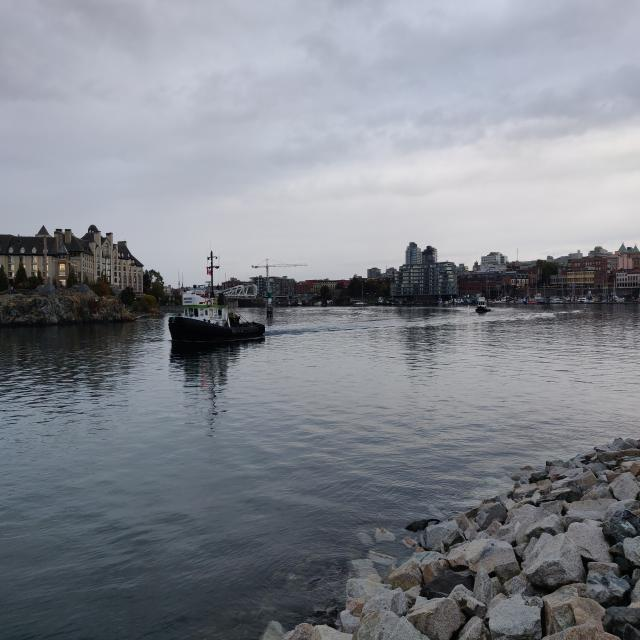boat: (167, 245, 266, 344), (475, 296, 491, 312), (491, 294, 515, 304)
mark: (266, 288, 274, 321)
skiff: (522, 300, 546, 304)
